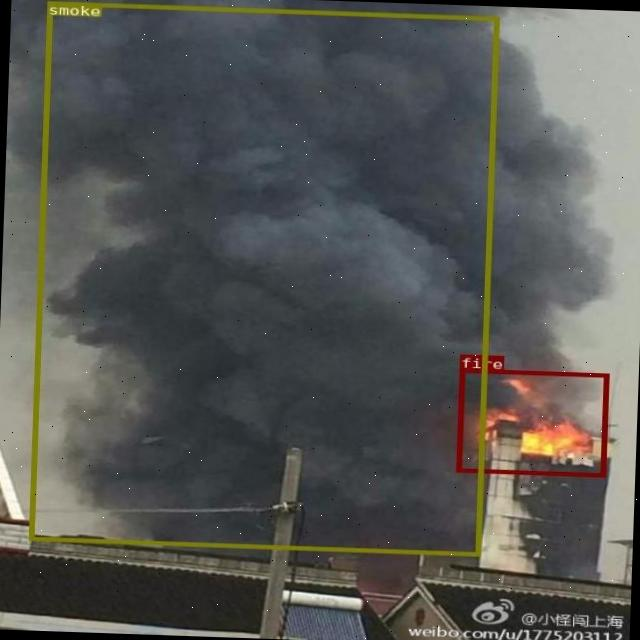fire: (454, 368, 608, 476)
smoke: (28, 1, 497, 554)
